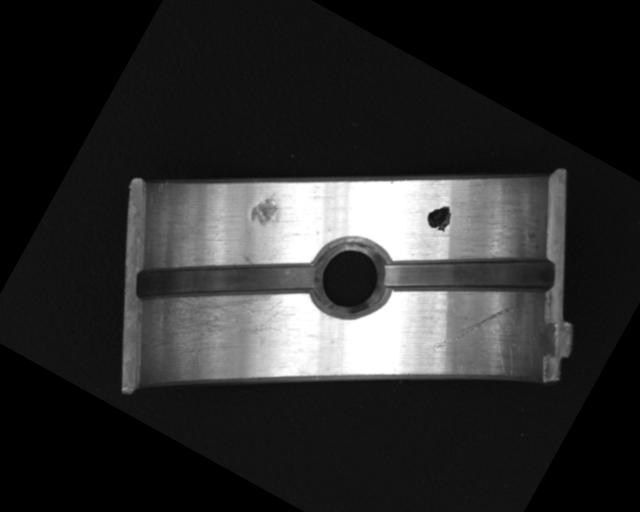blot: (422, 199, 457, 235)
bruise: (245, 185, 287, 232)
gap: (129, 192, 322, 369), (379, 192, 561, 354)
hole: (299, 225, 402, 333)
nick: (429, 281, 512, 375)
scratch: (141, 249, 297, 396)
